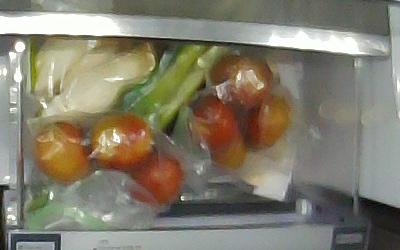prune_vinyl: (208, 53, 273, 112), (32, 120, 92, 181), (92, 111, 155, 169), (239, 91, 291, 152), (127, 149, 182, 203), (184, 92, 235, 147), (211, 127, 247, 168)
